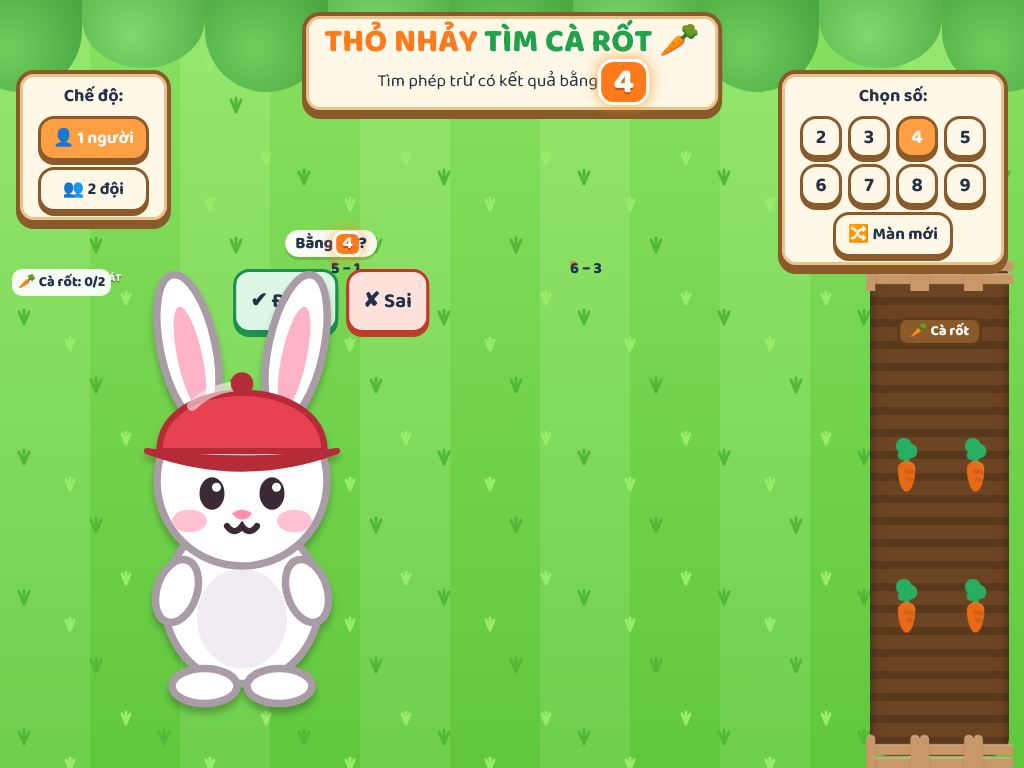
Test: chọn chế độ › bấm "2 đội" thì có hai làn, bấm "1 người" thì về một làn
The width and height of the screenshot is (1024, 768).
Click the button "👥 2 đội" at (93, 190), box x1=38 y1=167 x2=149 y2=212
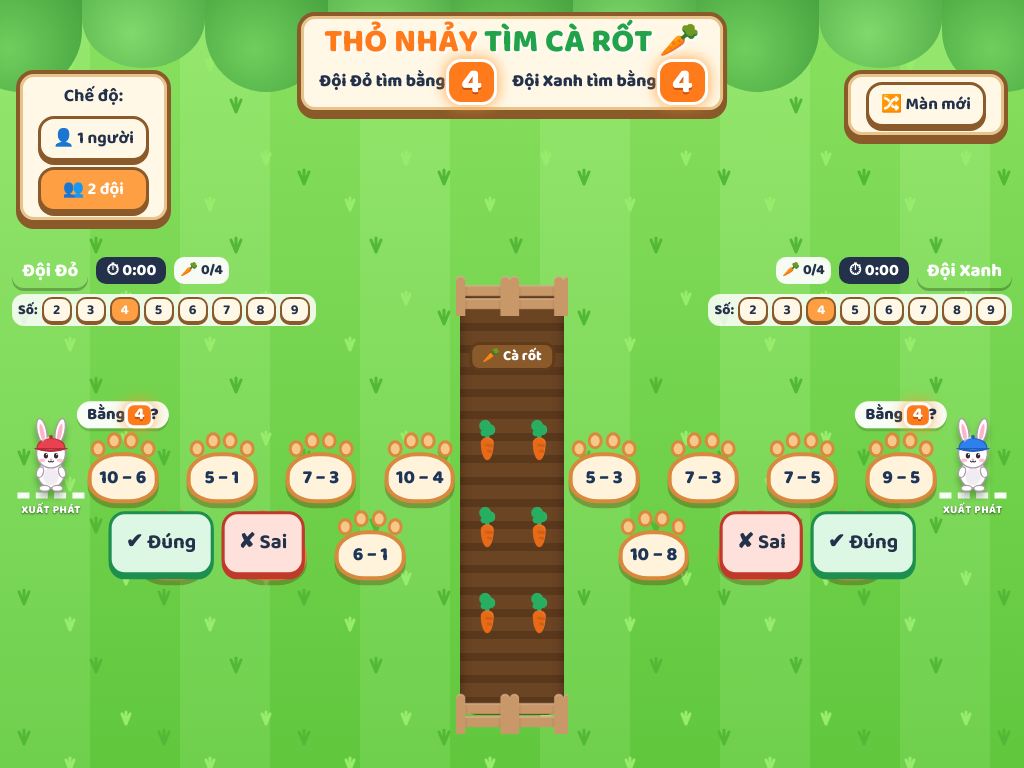
Expected: the number of elements with test id "lane" is 2, x1=12 y1=254 x2=455 y2=581; x1=569 y1=254 x2=1012 y2=581
Click the button "👤 1 người" at (93, 138), box x1=38 y1=116 x2=149 y2=161
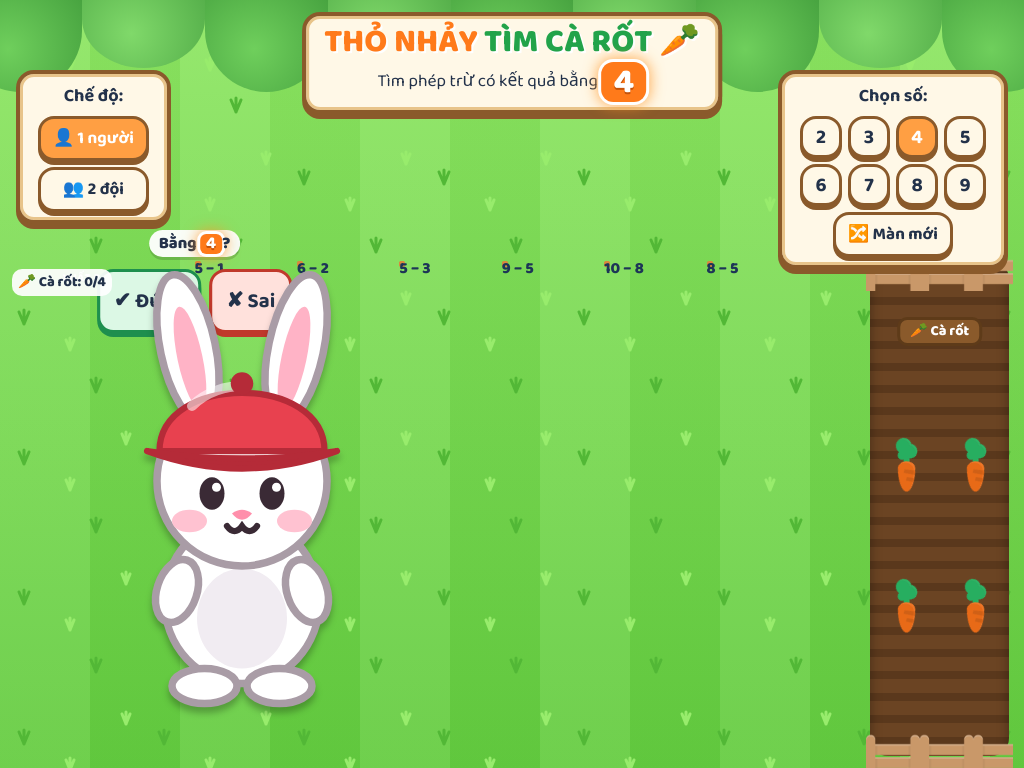
Expected: the number of elements with test id "lane" is 1, x1=12 y1=256 x2=848 y2=711
